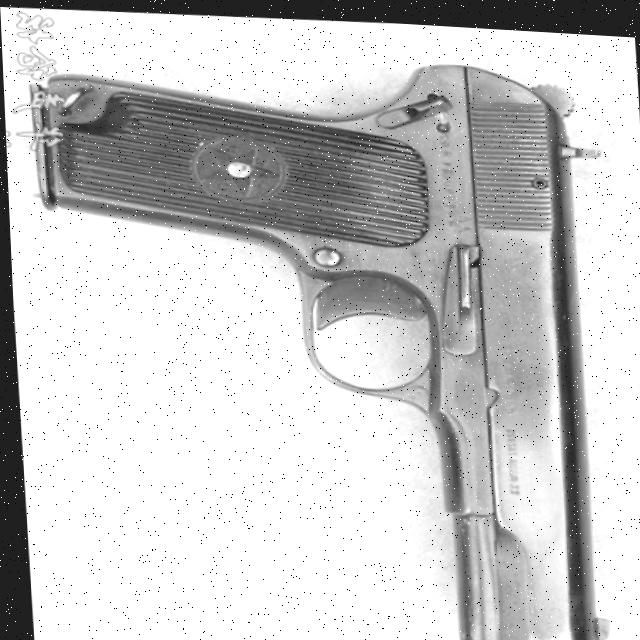pistol: (36, 35, 608, 640)
